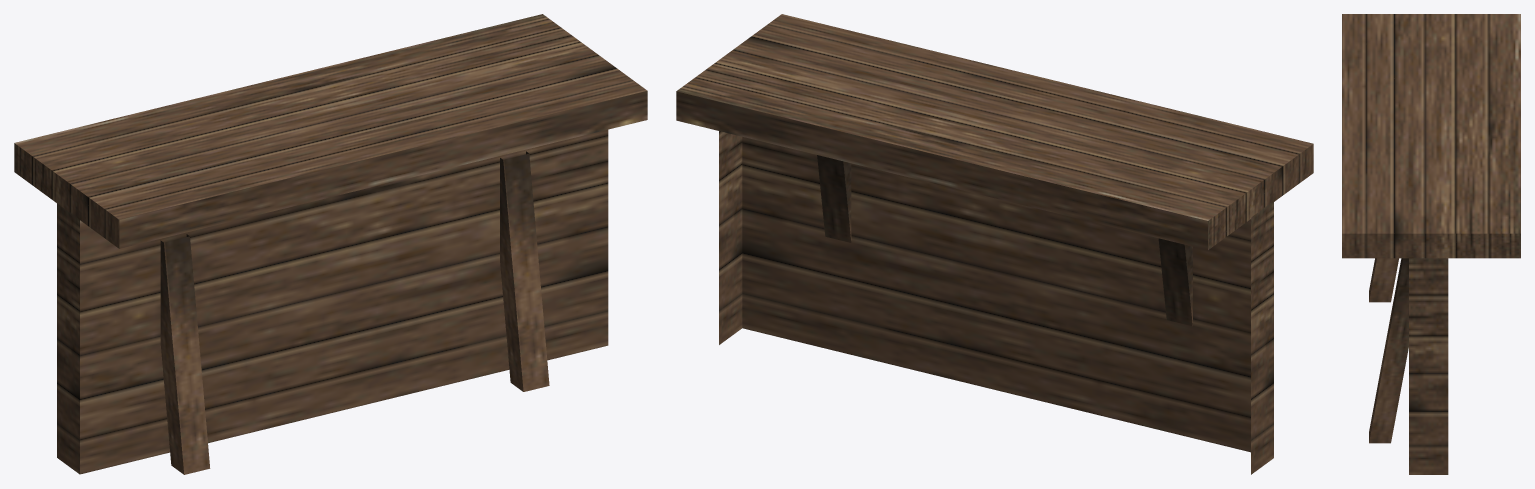
3 renders of one model, left to right at view 1: azimuth 30°, elevation 25°; view 2: azimuth 150°, elevation 25°; view 3: azimuth 270°, elevation 25°, orthographic. The views are drawn at different scales.
Parts seen in each view (by area): view 1: a24; view 2: a24; view 3: a24.
Boxes of the visible parts, left/top/right/bottom form: a24: left=14, top=14, right=647, bottom=474; a24: left=676, top=14, right=1313, bottom=474; a24: left=1342, top=14, right=1520, bottom=474.
Size of the model in its own units: 517 by 268 by 178.
